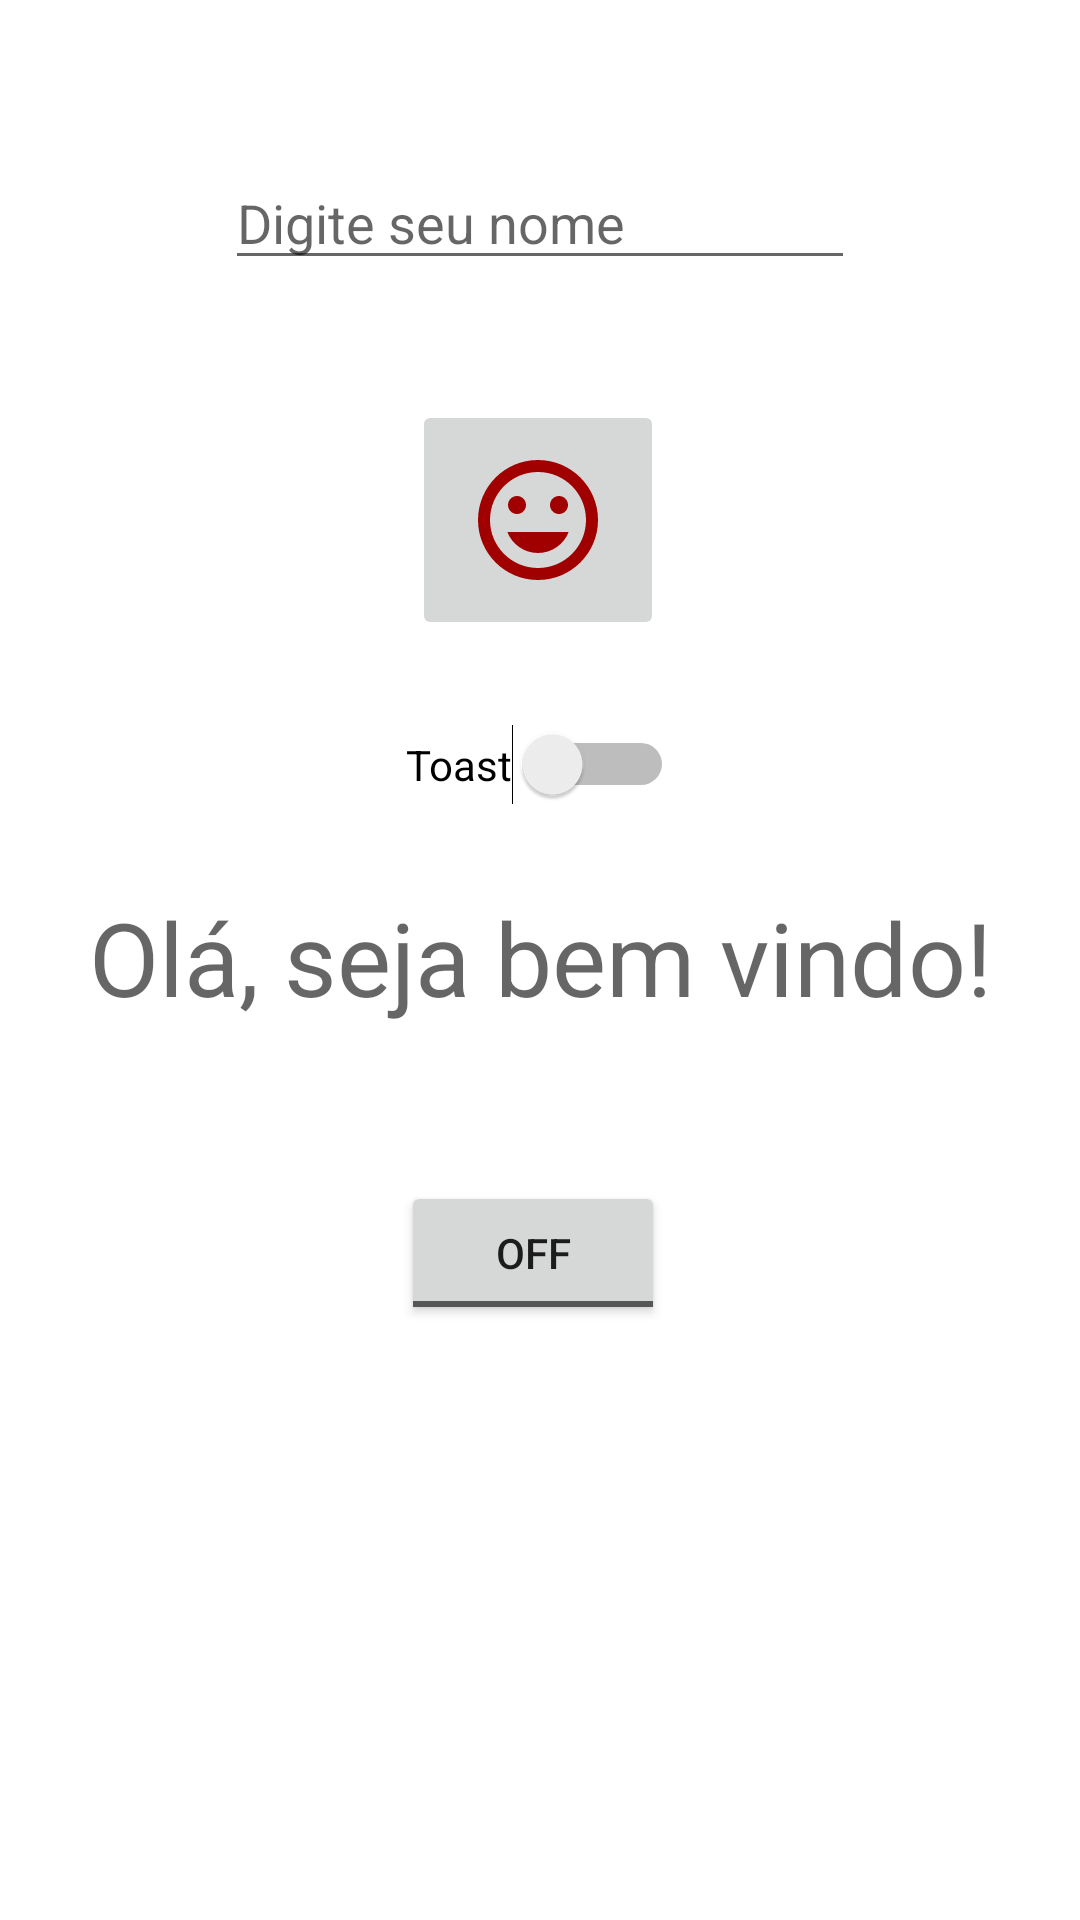

Icon click points for this 1080×1920 phone screenshot, format point (x, y):
smile: point (538, 520)
